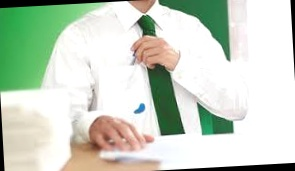ink: (134, 102, 147, 114)
